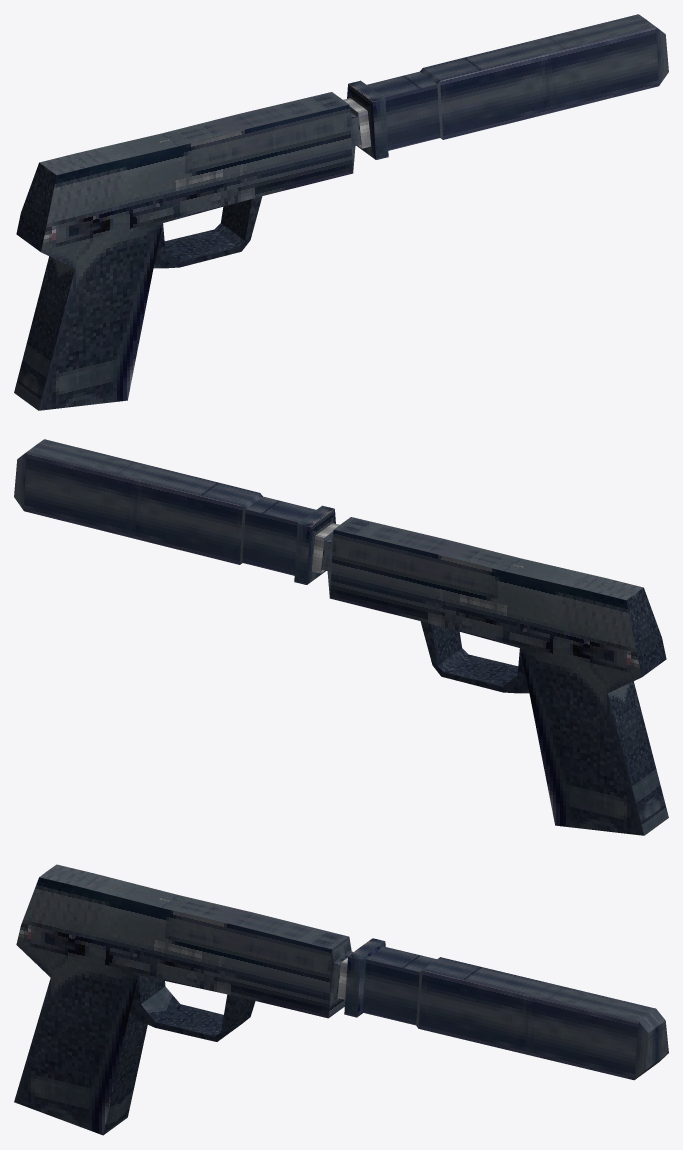
The model's file is usp.glb.
The picture shows the model from 3 angles, top to bottom: view 1: azimuth 30°, elevation 25°; view 2: azimuth 150°, elevation 25°; view 3: azimuth 330°, elevation 25°; orthographic projection.
Visible parts, largest first — view 1: usp; view 2: usp; view 3: usp.
Boxes of the visible parts, left/top/right/bottom form: usp: left=14, top=14, right=668, bottom=410; usp: left=14, top=439, right=668, bottom=835; usp: left=14, top=864, right=668, bottom=1135.
Bounding box in the file's own units: 4.11 × 1.5 × 0.3583.
Materials: 1 (1 with a texture image).
